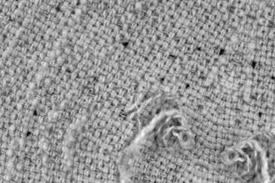snag: (119, 98, 198, 178), (221, 134, 275, 181)
